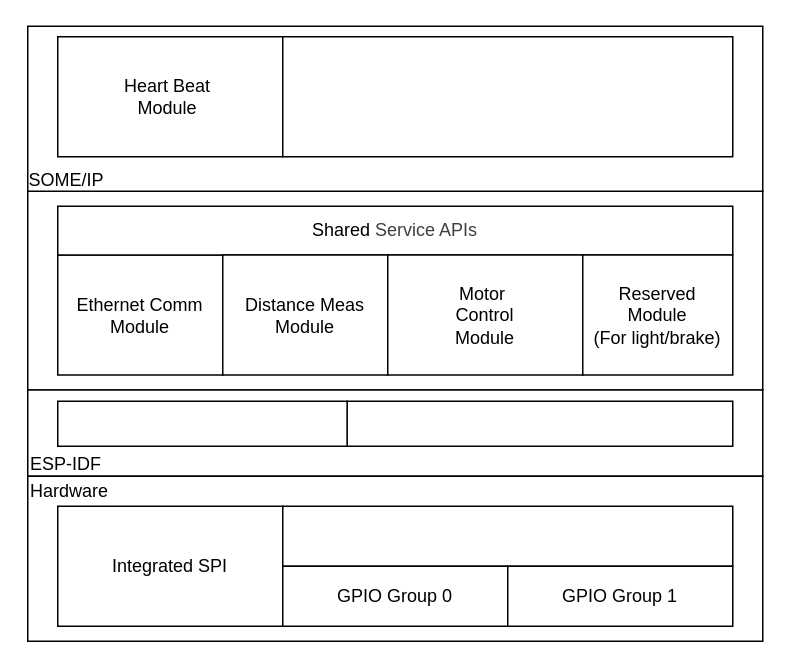
Some shapes in this 789 by 668 pixel diagram are drawn without their labels. The shapes that lost their labels are listed below. From the top down, each one's box as (x1, y1, x2, y2) in pixels, then its label:
(281, 35, 733, 157): System Control Module
(56, 400, 347, 446): ESP's HAL
(346, 400, 733, 446): FreeRTOS
(281, 505, 733, 566): GPIO Matrix
